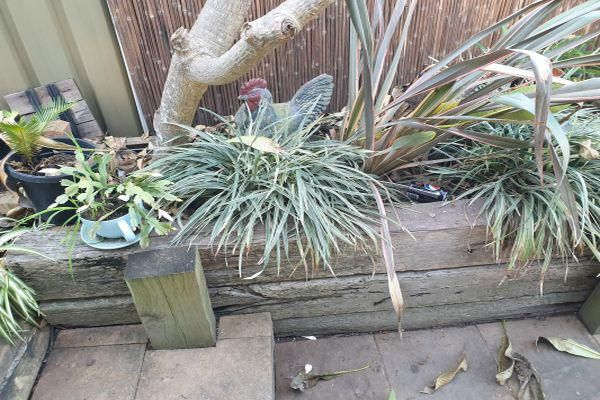Plastic Bottle: (405, 180, 450, 204)
